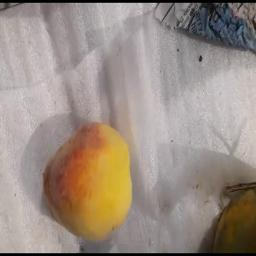Peach Semifresh: (36, 111, 149, 244)
